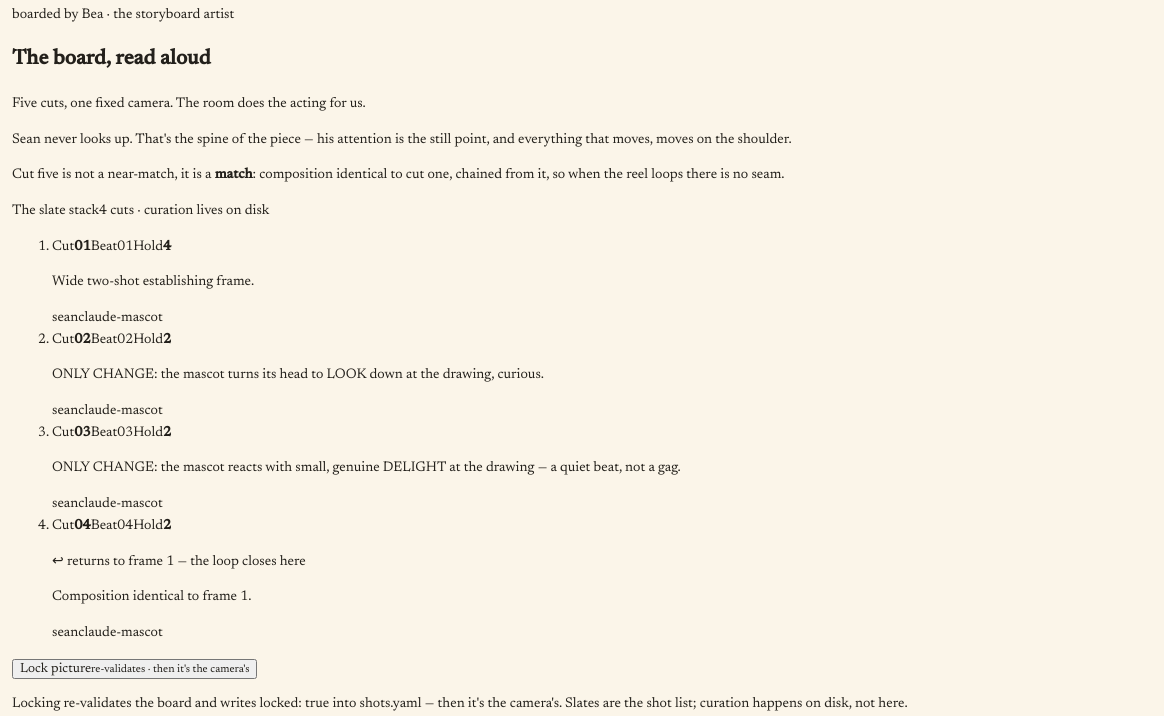
StoryboardGate — Lock picture -> leader -> terminal (U3's hook, wired) › THE INVALID-LOCK STATE: a refused lock names the gap AND the fix — calm, directive, no advance
(page scrolled)
Expected: the text "Five cuts, one fixed camera" is shown, [12, 97, 366, 111]
Click the button "Lock picture": (135, 669) [12, 659, 257, 679]
(page scrolled)
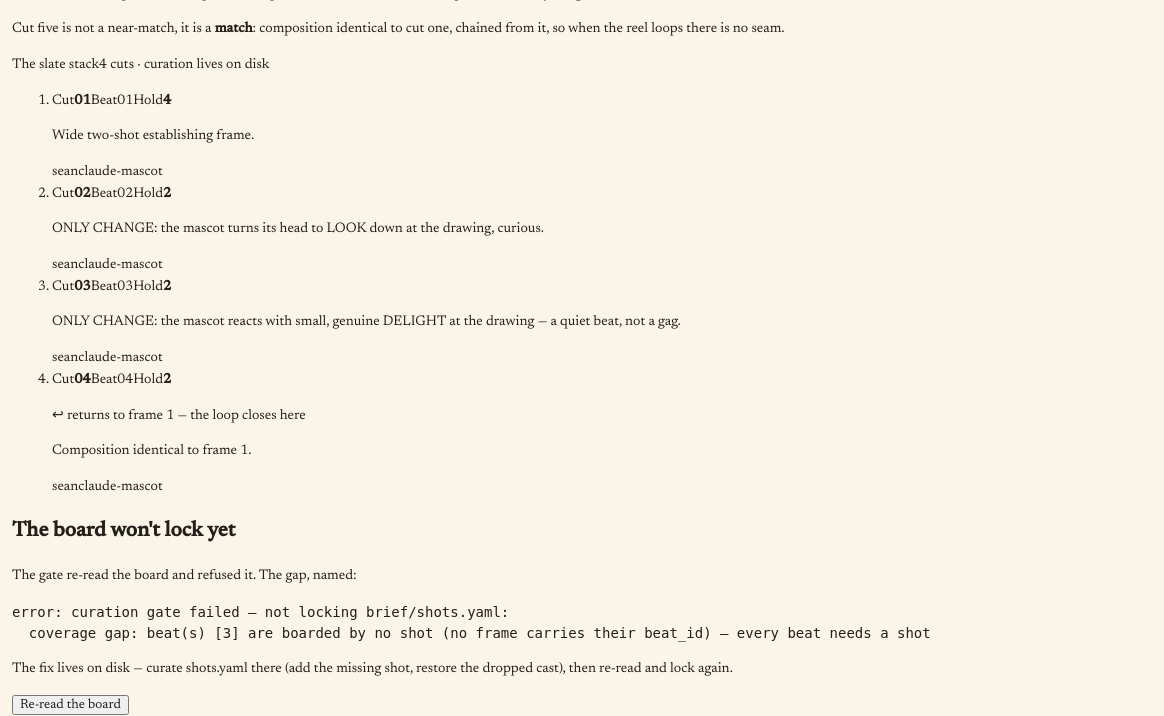
Expected: the heading "The board won't lock yet" is shown, [12, 521, 235, 542]
Expected: the text "coverage gap: beat(s) [3]" is shown, [12, 604, 931, 641]
Expected: the text "The fix lives on disk" is shown, [12, 662, 733, 676]
# the one recovery action re-reads the board fresh and re-arms the lock
Click the button "Re-read the board": (70, 705) [12, 695, 129, 715]
(page scrolled)
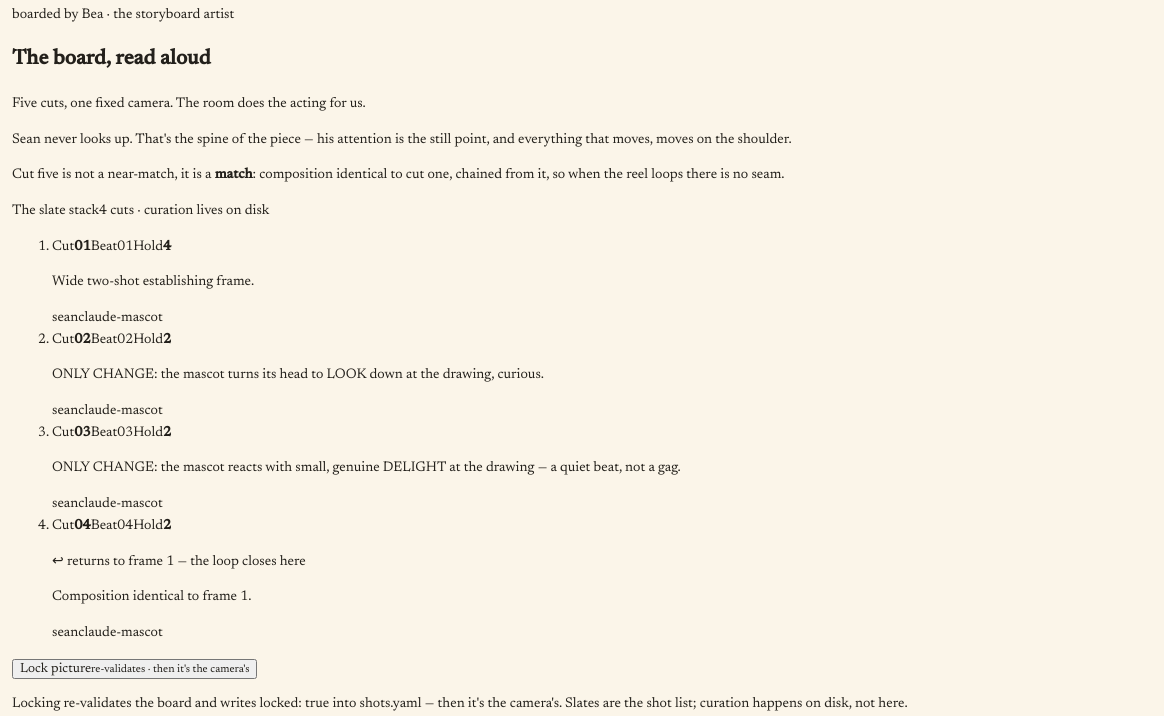
Expected: the button "Lock picture" is shown, [12, 659, 257, 679]
